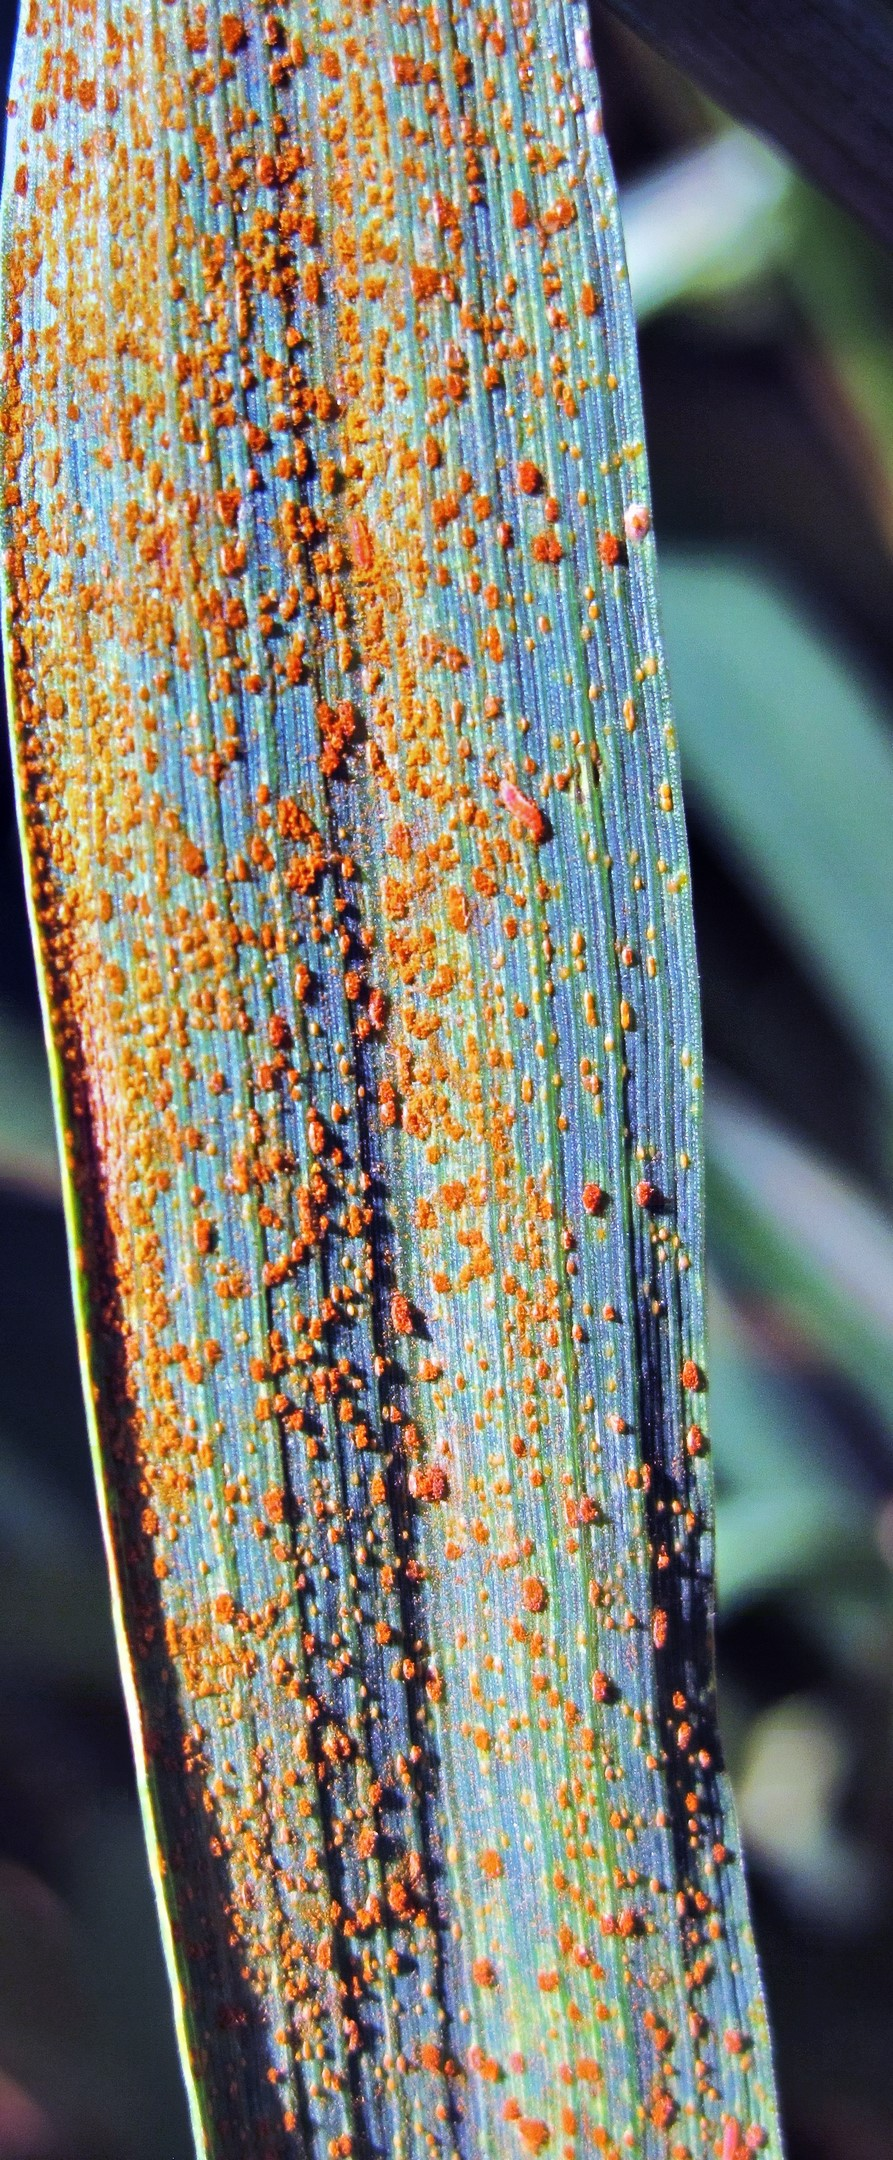Leaf Rust: (10, 23, 784, 2132)
